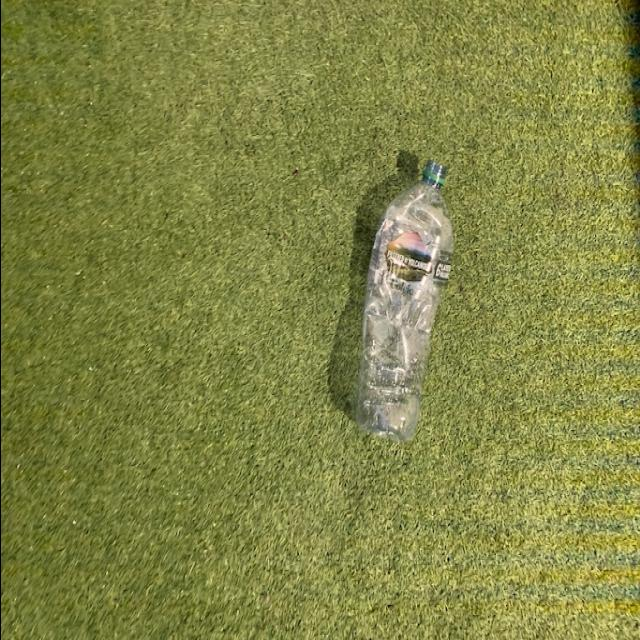litter: (350, 156, 450, 438)
